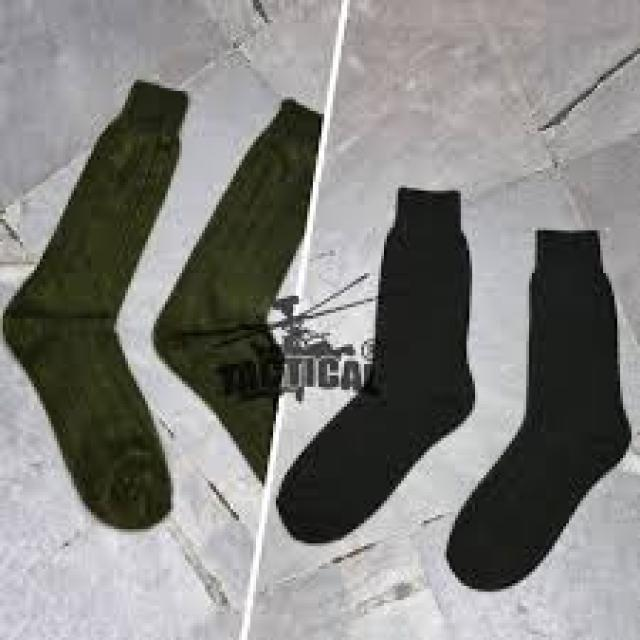sock: (0, 77, 188, 529), (273, 185, 475, 543), (444, 228, 631, 592), (151, 96, 321, 484)
